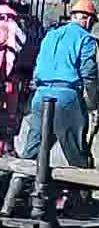helmet: (69, 0, 97, 21)
vest: (33, 25, 92, 95)
